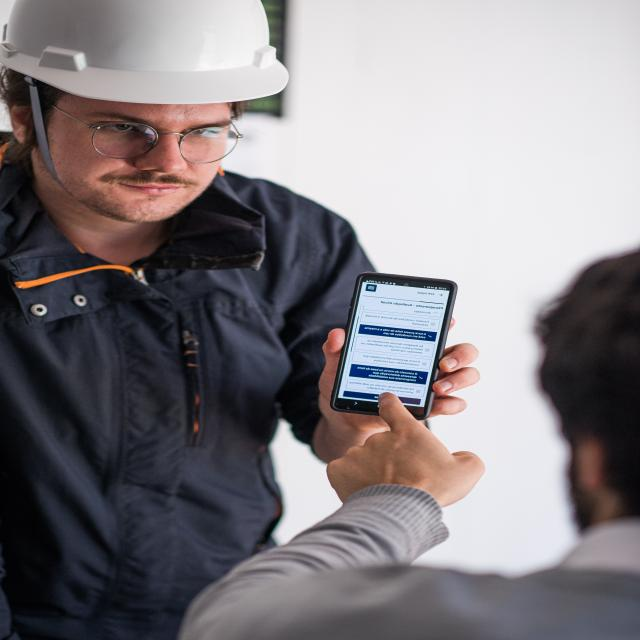capacete: (0, 0, 294, 108)
